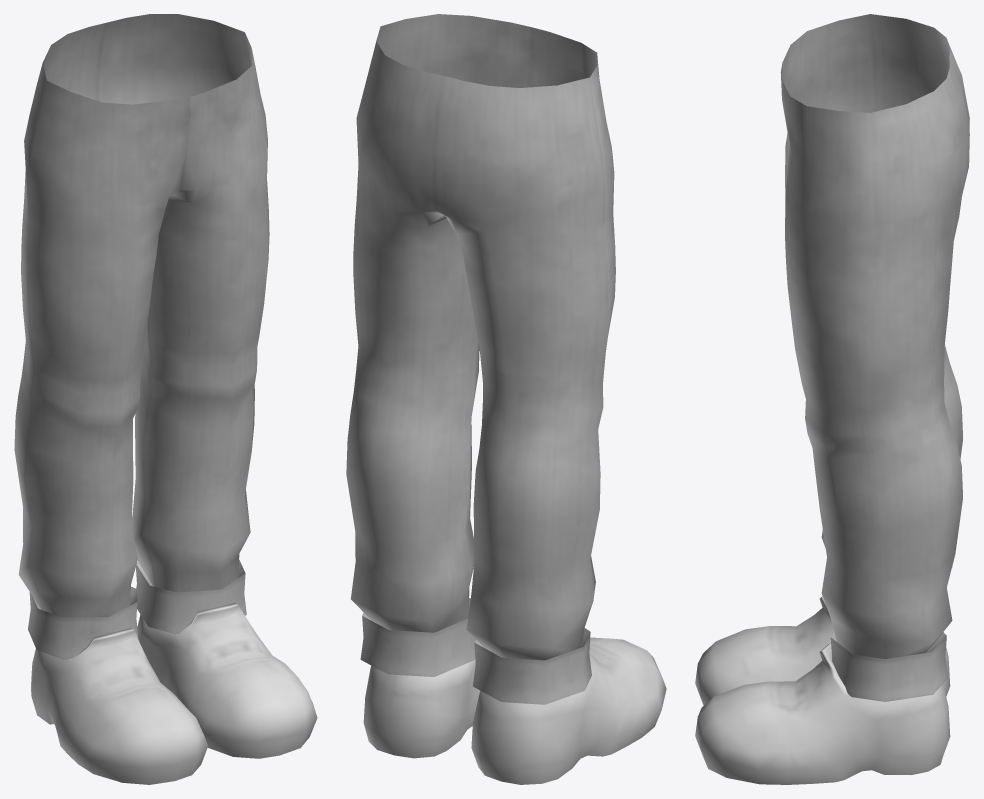
File: tr0740_00_lwb03.gltf
3 views of the same model, side by side, from view 1: azimuth 30°, elevation 25°; view 2: azimuth 150°, elevation 25°; view 3: azimuth 270°, elevation 25° (orthographic). The views are drawn at different scales.
Visible parts, largest first — view 1: lwb03_lowerbody_mesh_shape:lowerbody03, lwb03_shoes_mesh_shape:lowerbody03; view 2: lwb03_lowerbody_mesh_shape:lowerbody03, lwb03_shoes_mesh_shape:lowerbody03; view 3: lwb03_lowerbody_mesh_shape:lowerbody03, lwb03_shoes_mesh_shape:lowerbody03.
Part boxes in pixels (x1,y1,x2,y2): lwb03_lowerbody_mesh_shape:lowerbody03: (14, 14, 269, 659); lwb03_shoes_mesh_shape:lowerbody03: (31, 603, 317, 784); lwb03_lowerbody_mesh_shape:lowerbody03: (346, 14, 615, 704); lwb03_shoes_mesh_shape:lowerbody03: (363, 637, 666, 784); lwb03_lowerbody_mesh_shape:lowerbody03: (780, 14, 969, 701); lwb03_shoes_mesh_shape:lowerbody03: (695, 596, 950, 784).
Size of what is drawn, in the model's own units: 0.3474 by 0.9314 by 0.3444.
1 material, 1 textured.
